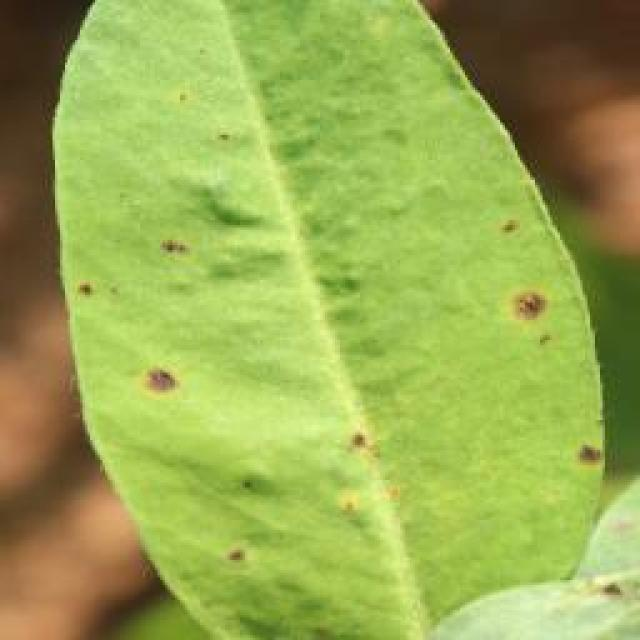Sigatoka: (493, 266, 588, 356), (48, 237, 140, 314), (119, 346, 209, 408), (304, 476, 404, 524), (182, 75, 245, 148), (152, 226, 214, 289), (564, 424, 626, 486), (178, 516, 262, 559), (342, 418, 408, 471), (486, 204, 548, 253), (587, 564, 638, 608)
